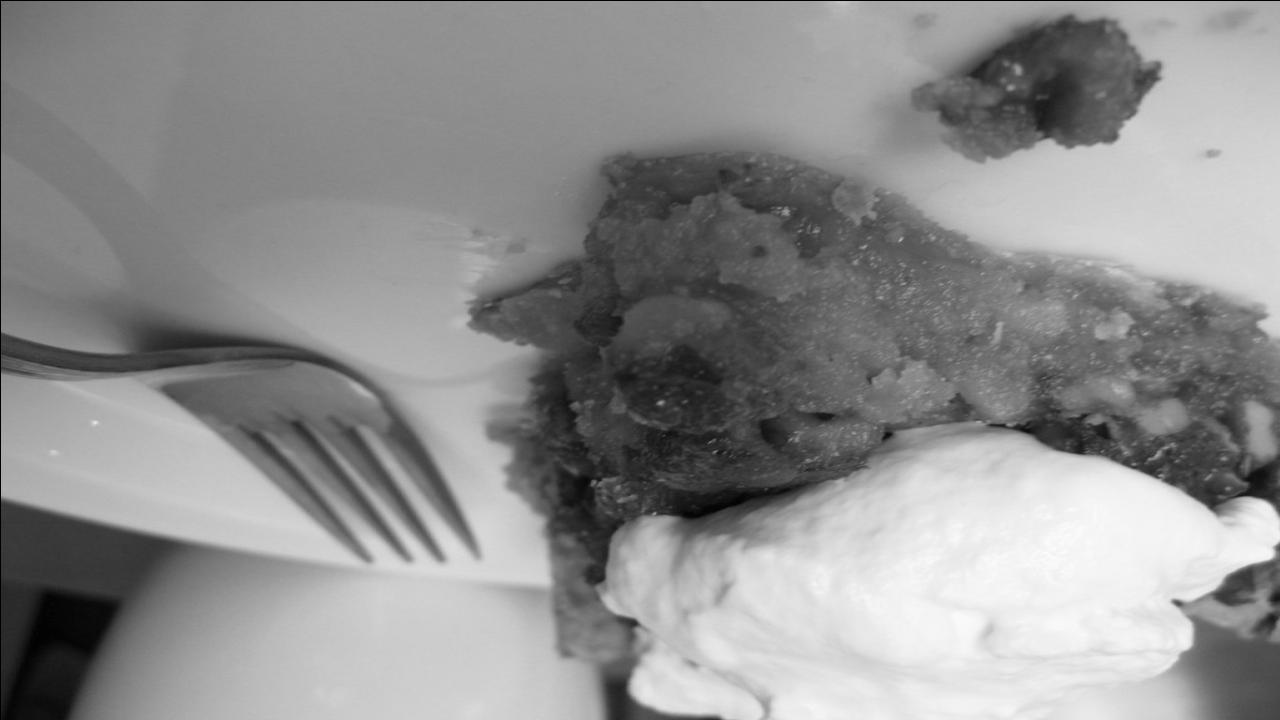fork: (0, 323, 489, 569)
